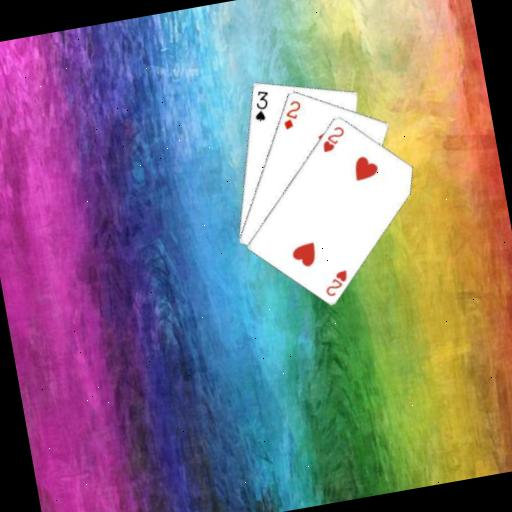2D: (276, 95, 305, 131)
2H: (318, 265, 351, 298), (316, 122, 349, 154)
3S: (247, 86, 273, 123)
